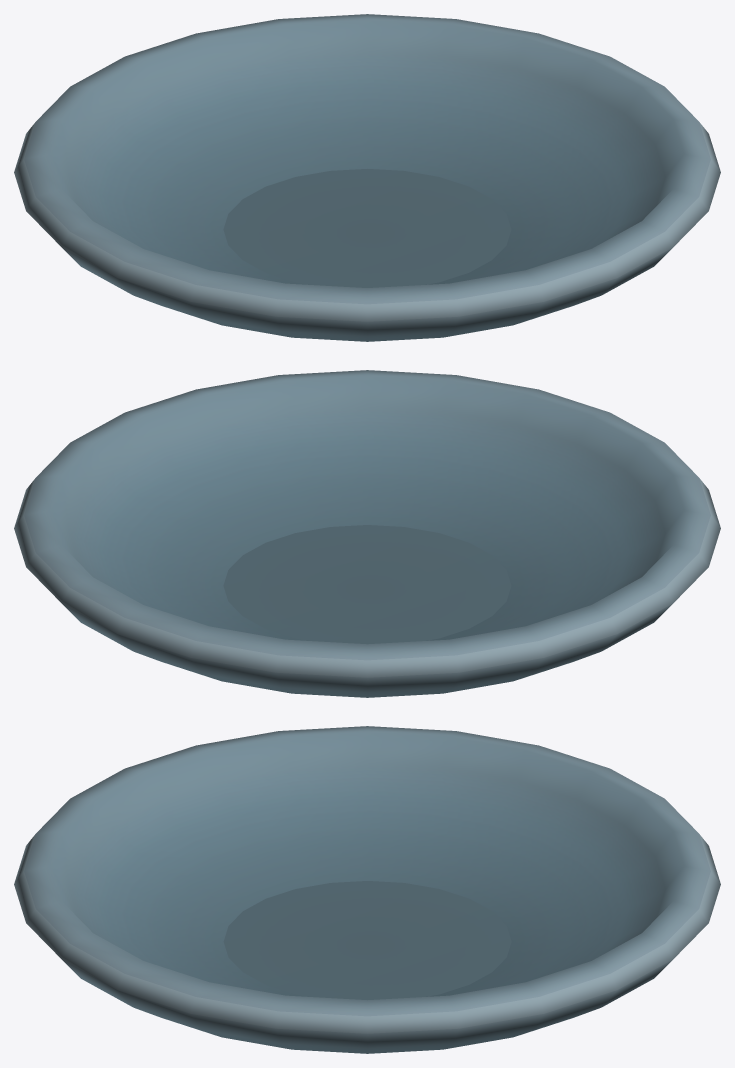
The model's file is saucer_003.fbx.
The picture shows the model from 3 angles, top to bottom: view 1: azimuth 30°, elevation 25°; view 2: azimuth 150°, elevation 25°; view 3: azimuth 270°, elevation 25°; orthographic projection.
Parts seen in each view (by area): view 1: saucer_003; view 2: saucer_003; view 3: saucer_003.
Part boxes in pixels (x1,y1,x2,y2): saucer_003: [14, 14, 720, 341]; saucer_003: [14, 370, 720, 697]; saucer_003: [14, 726, 720, 1053].
Bounding box in the file's own units: 12.99 × 12.99 × 2.04.
